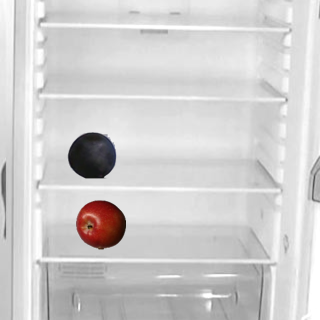Apple Braeburn: (75, 199, 125, 249)
Grape Blue: (66, 129, 116, 179)
